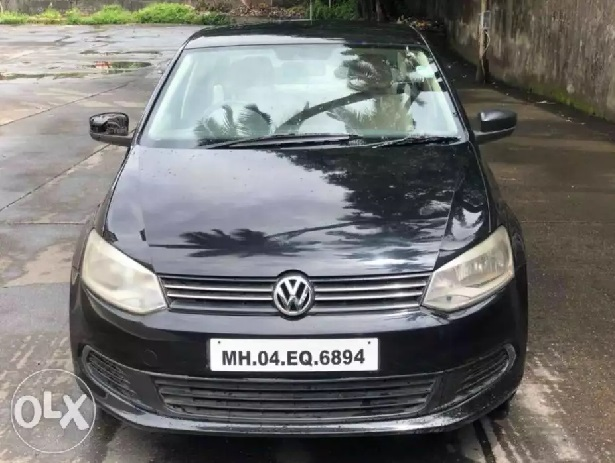licenseplate: (208, 336, 383, 373)
